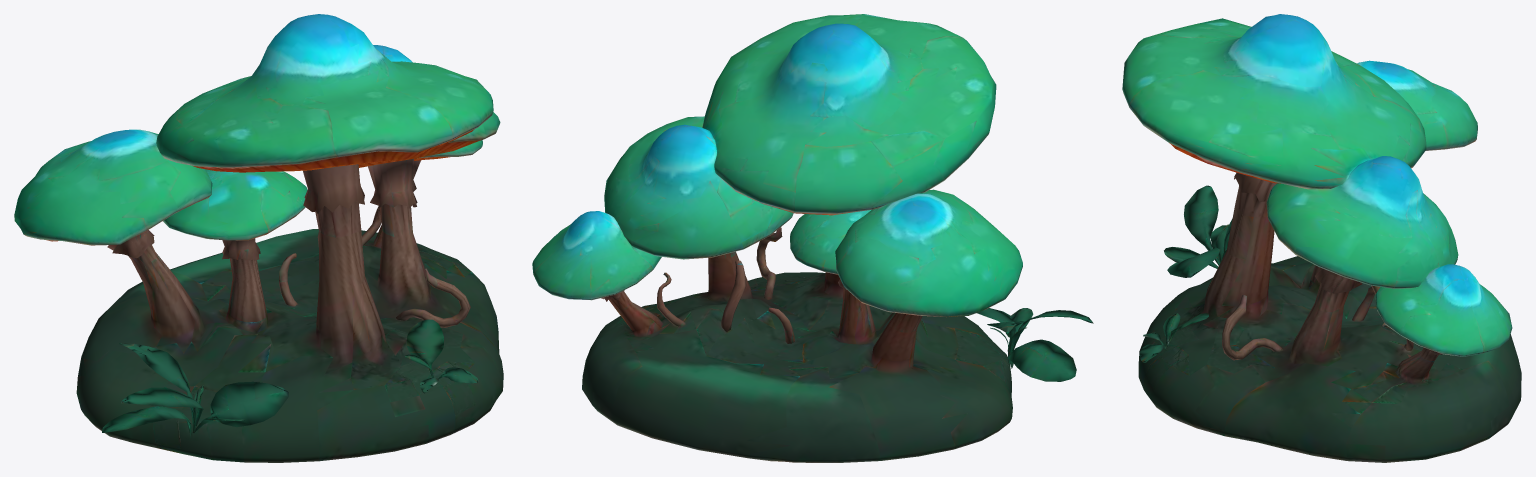
File: mushrooms.glb
3 views of the same model, side by side, from view 1: azimuth 30°, elevation 25°; view 2: azimuth 150°, elevation 25°; view 3: azimuth 270°, elevation 25° (orthographic). The views are drawn at different scales.
Bounding box in the file's own units: 0.9541 × 0.7212 × 0.7393.
Materials: 1 (1 with a texture image).
